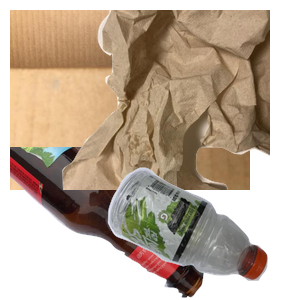cardboard: (10, 10, 250, 190)
glass: (10, 147, 207, 300)
plastic: (105, 165, 300, 300)
trash: (60, 10, 300, 190)
